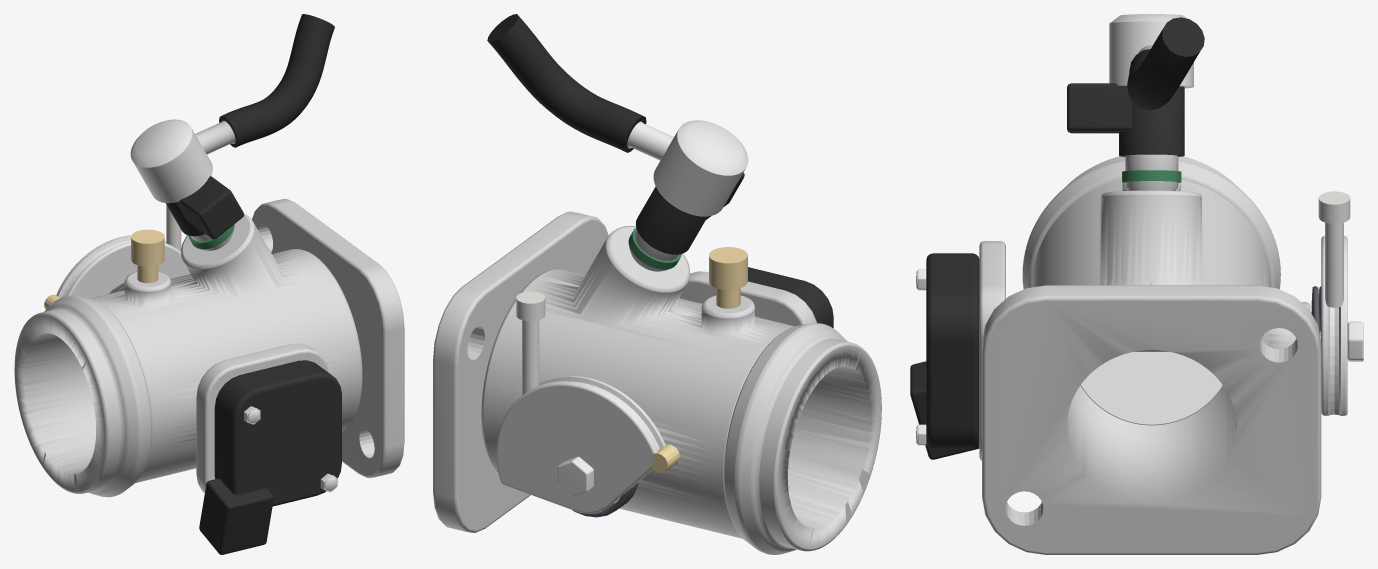
File: throttle_body.glb
The picture shows the model from 3 angles, left to right: view 1: azimuth 30°, elevation 25°; view 2: azimuth 150°, elevation 25°; view 3: azimuth 270°, elevation 25°; orthographic projection. The views are drawn at different scales.
Visible parts, largest first — view 1: throttle_body__body, throttle_body__tps, throttle_body__fuel_cap, throttle_body__fuel_hose, throttle_body__pulley, throttle_body__injector, throttle_body__idle_air_screw, throttle_body__idle_stop_screw; view 2: throttle_body__body, throttle_body__pulley, throttle_body__fuel_cap, throttle_body__fuel_hose, throttle_body__injector, throttle_body__idle_stop_screw, throttle_body__idle_air_screw, throttle_body__tps; view 3: throttle_body__body, throttle_body__tps, throttle_body__injector, throttle_body__butterfly, throttle_body__fuel_hose, throttle_body__pulley, throttle_body__fuel_cap, throttle_body__idle_stop_screw.
Boxes of the visible parts, left/top/right/bottom form: throttle_body__body: left=14, top=198, right=404, bottom=497; throttle_body__tps: left=199, top=360, right=341, bottom=554; throttle_body__fuel_cap: left=130, top=119, right=235, bottom=203; throttle_body__fuel_hose: left=219, top=14, right=334, bottom=147; throttle_body__pulley: left=44, top=235, right=190, bottom=309; throttle_body__injector: left=166, top=176, right=244, bottom=250; throttle_body__idle_air_screw: left=131, top=229, right=164, bottom=283; throttle_body__idle_stop_screw: left=166, top=204, right=181, bottom=251; throttle_body__body: left=433, top=211, right=881, bottom=554; throttle_body__pulley: left=496, top=376, right=679, bottom=513; throttle_body__fuel_cap: left=627, top=120, right=748, bottom=216; throttle_body__fuel_hose: left=487, top=14, right=646, bottom=152; throttle_body__injector: left=628, top=173, right=744, bottom=271; throttle_body__idle_stop_screw: left=516, top=291, right=545, bottom=394; throttle_body__idle_air_screw: left=709, top=247, right=747, bottom=308; throttle_body__tps: left=748, top=267, right=833, bottom=328; throttle_body__body: left=979, top=156, right=1321, bottom=554; throttle_body__tps: left=910, top=253, right=979, bottom=459; throttle_body__injector: left=1067, top=83, right=1184, bottom=190; throttle_body__butterfly: left=1080, top=352, right=1222, bottom=425; throttle_body__fuel_hose: left=1127, top=17, right=1204, bottom=110; throttle_body__pulley: left=1321, top=235, right=1363, bottom=415; throttle_body__fuel_cap: left=1109, top=14, right=1193, bottom=88; throttle_body__idle_stop_screw: left=1318, top=191, right=1350, bottom=307.
Bounding box in the file's own units: 7.75 × 11.04 × 8.55.
